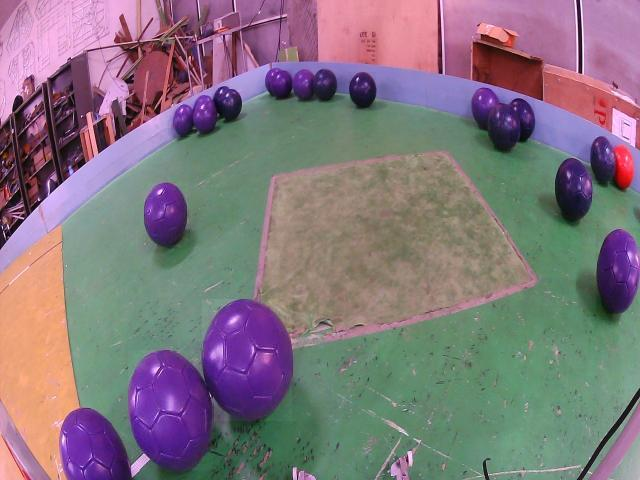jambhalya: (203, 300, 292, 421), (128, 350, 213, 470), (60, 408, 131, 480), (596, 229, 640, 313), (145, 183, 188, 247), (471, 88, 499, 130), (192, 100, 218, 133), (173, 105, 194, 136), (293, 70, 314, 100), (270, 70, 292, 98), (265, 67, 280, 92), (194, 95, 211, 107)
kaalyya: (555, 158, 592, 222), (487, 103, 519, 152), (590, 137, 616, 183), (510, 98, 535, 142), (349, 72, 376, 108), (312, 68, 338, 100), (223, 90, 242, 120), (213, 86, 229, 115)
